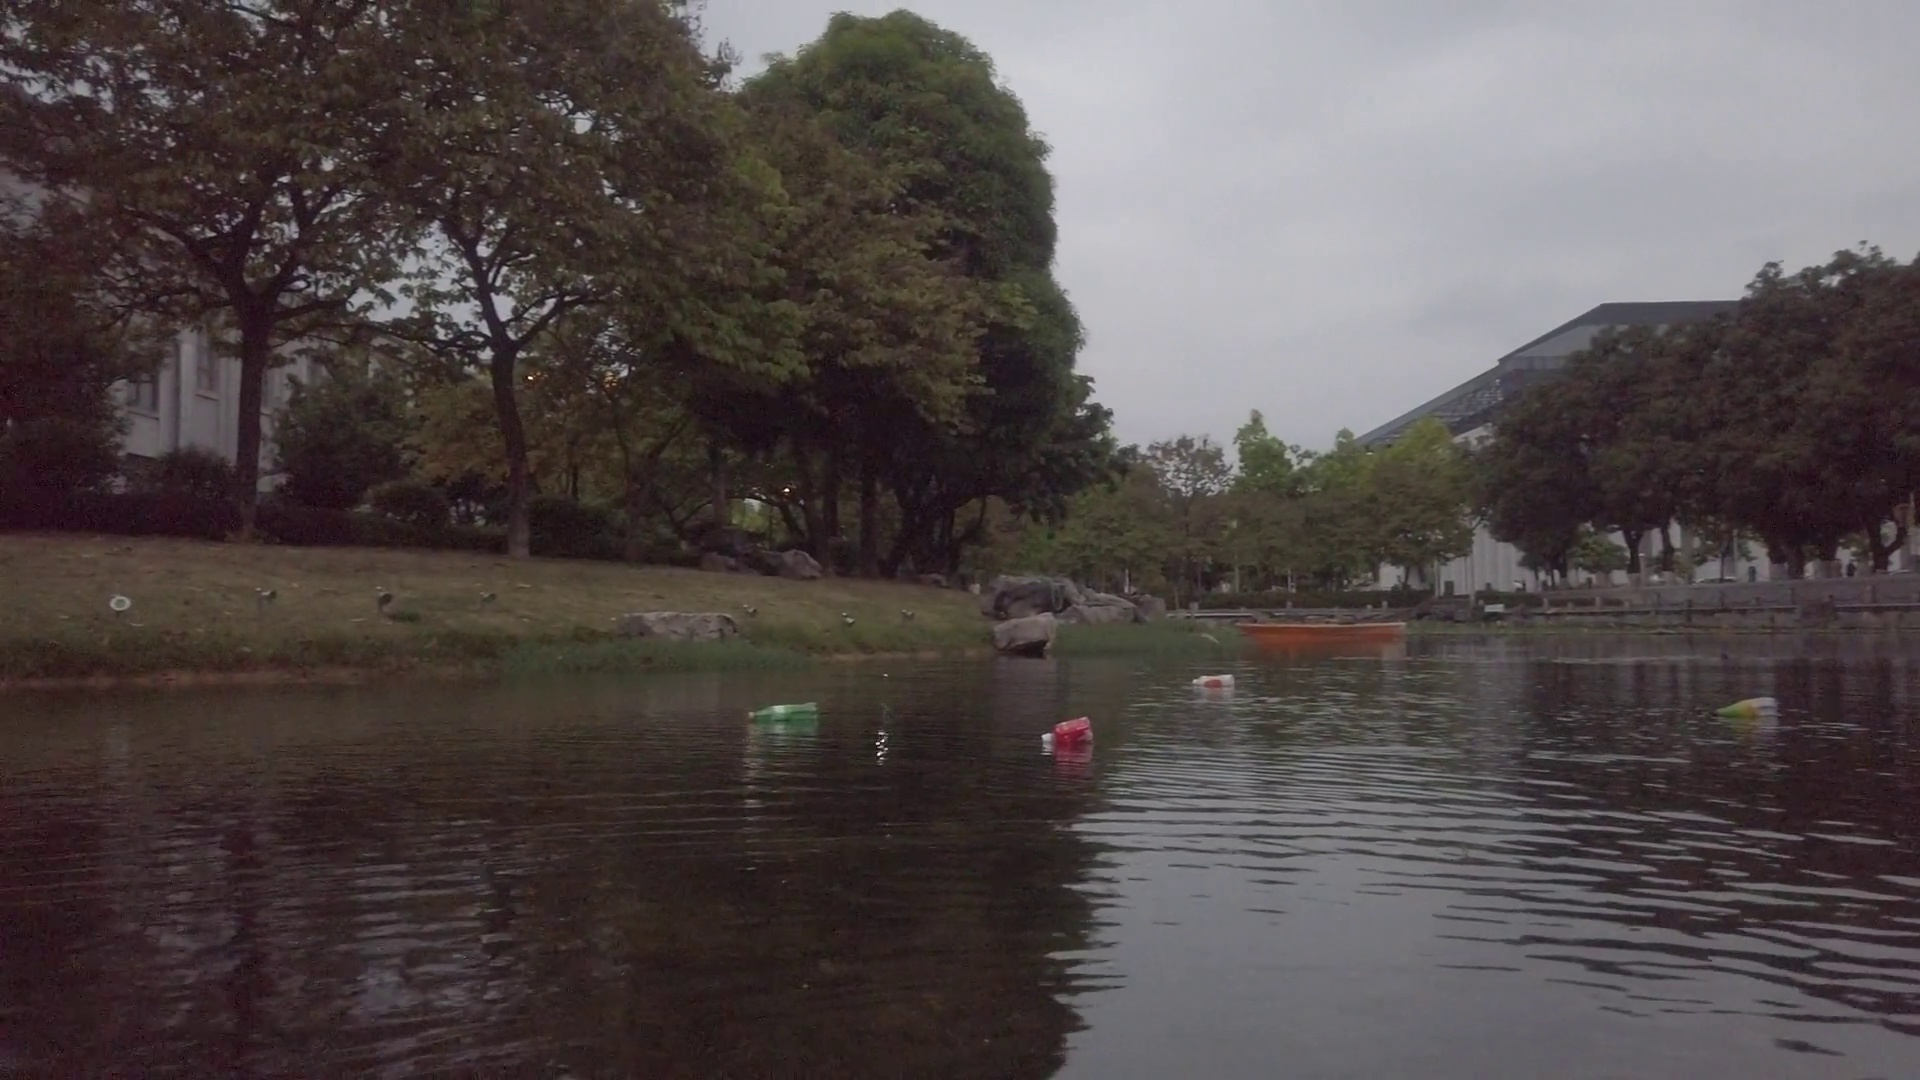bottle: (1040, 713, 1098, 746), (1713, 695, 1779, 719), (746, 703, 818, 721), (1195, 673, 1236, 691)
